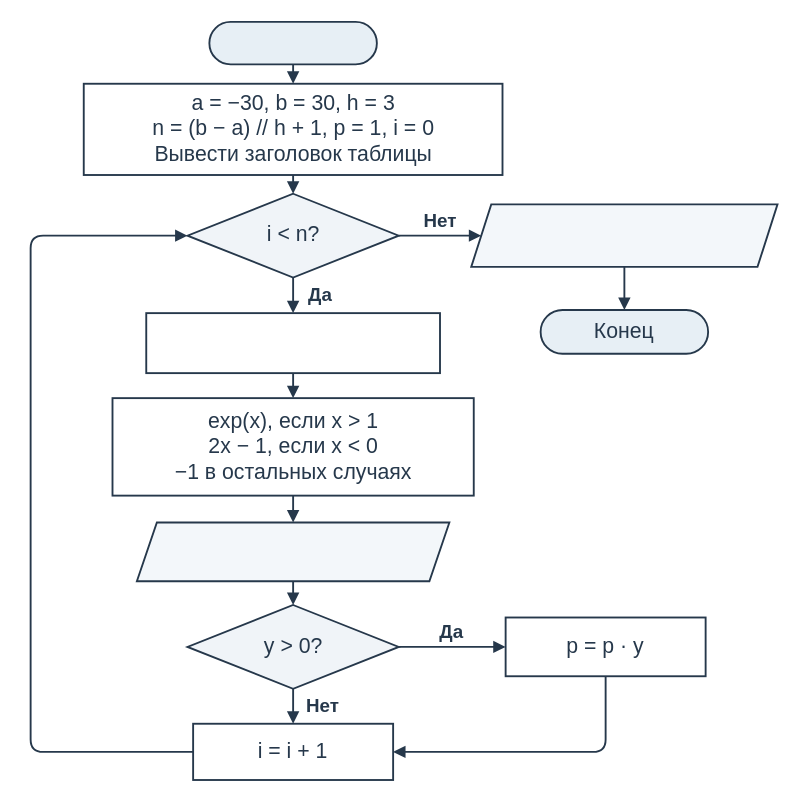
Some shapes in this 800 by 803 pixel diagram are drawn without their labels. Here are the shapes that lost their labels. From the top down, the centre of each, then its label:
the point at 292,42: Начало
the point at 624,235: Вывести произведение p
the point at 292,343: x = (a + h · i) / 10
the point at 292,551: Вывести строку x и y
